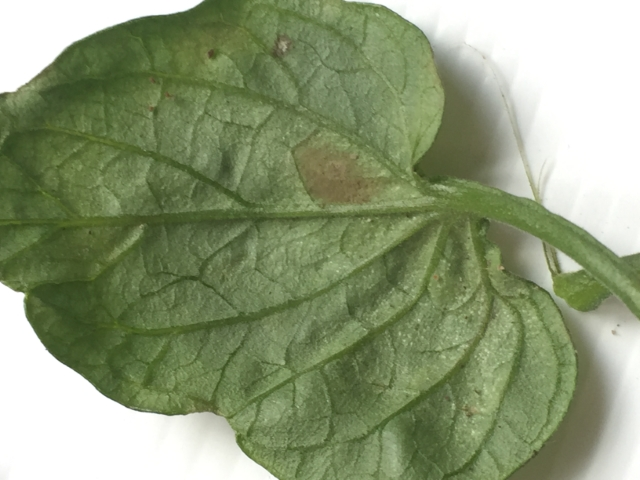cladosporium: (292, 141, 393, 211)
